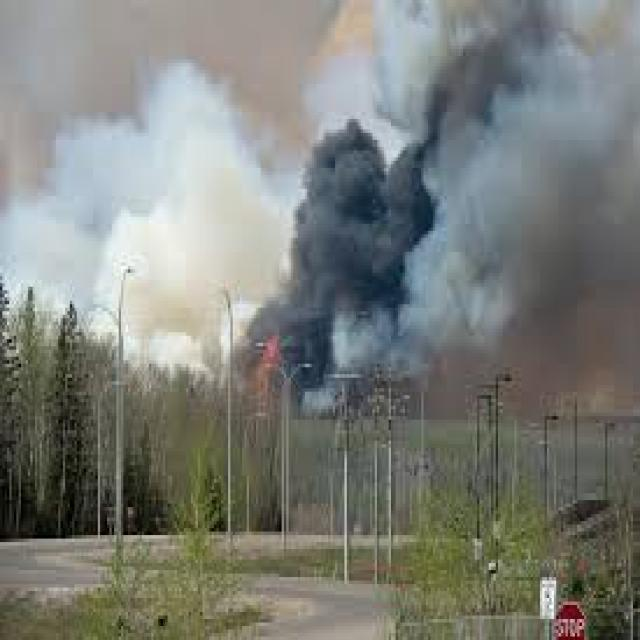Smoke: (432, 14, 638, 366), (0, 10, 256, 292), (270, 26, 417, 350)
